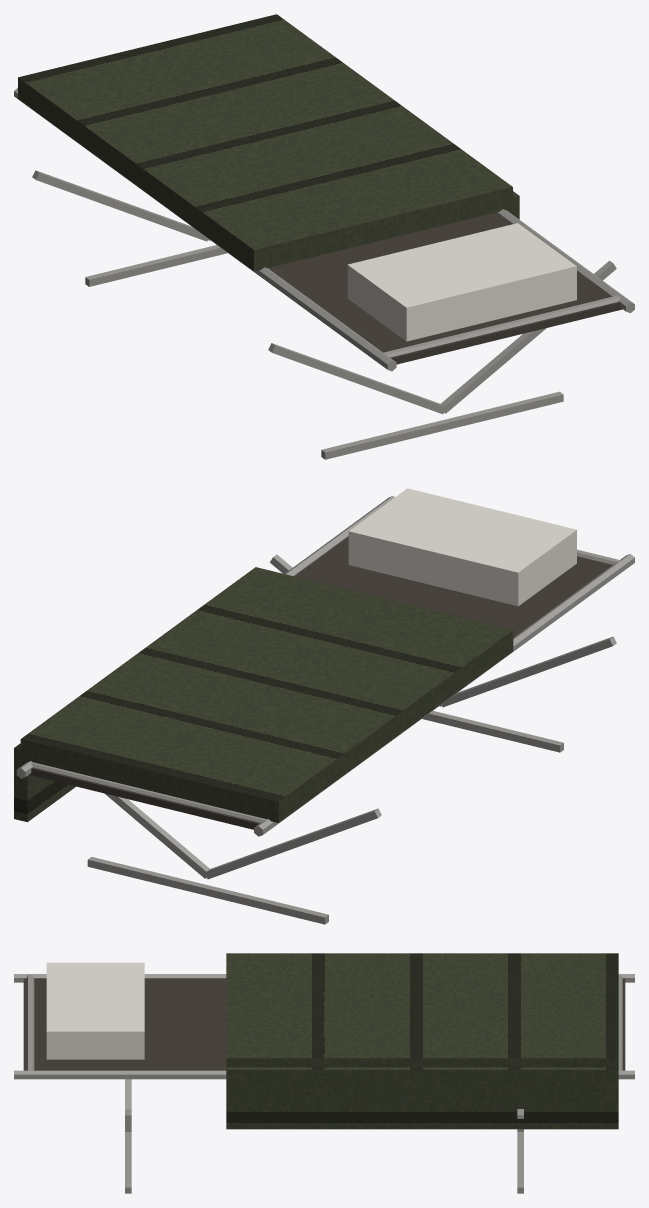
The model's file is cot.glb.
3 renders of one model, top to bottom at view 1: azimuth 30°, elevation 25°; view 2: azimuth 150°, elevation 25°; view 3: azimuth 270°, elevation 25°, orthographic. The views are drawn at different scales.
Parts seen in each view (by area): view 1: Blanket, Pillow, Frame, Canvas; view 2: Blanket, Pillow, Frame, Canvas; view 3: Blanket, Canvas, Pillow, Frame.
Boxes of the visible parts, x1,y1,x2,y2 form: Blanket: [18, 14, 519, 271]; Pillow: [347, 223, 576, 341]; Frame: [14, 88, 634, 459]; Canvas: [268, 212, 622, 364]; Blanket: [14, 567, 513, 822]; Pillow: [348, 488, 576, 606]; Frame: [16, 496, 634, 924]; Canvas: [29, 536, 612, 829]; Blanket: [226, 953, 618, 1129]; Canvas: [23, 978, 625, 1070]; Pillow: [46, 962, 144, 1059]; Frame: [14, 974, 634, 1193].
Size of what is drawn, in the model's own units: 1.01 by 0.5 by 1.9.
4 materials, 1 textured.
